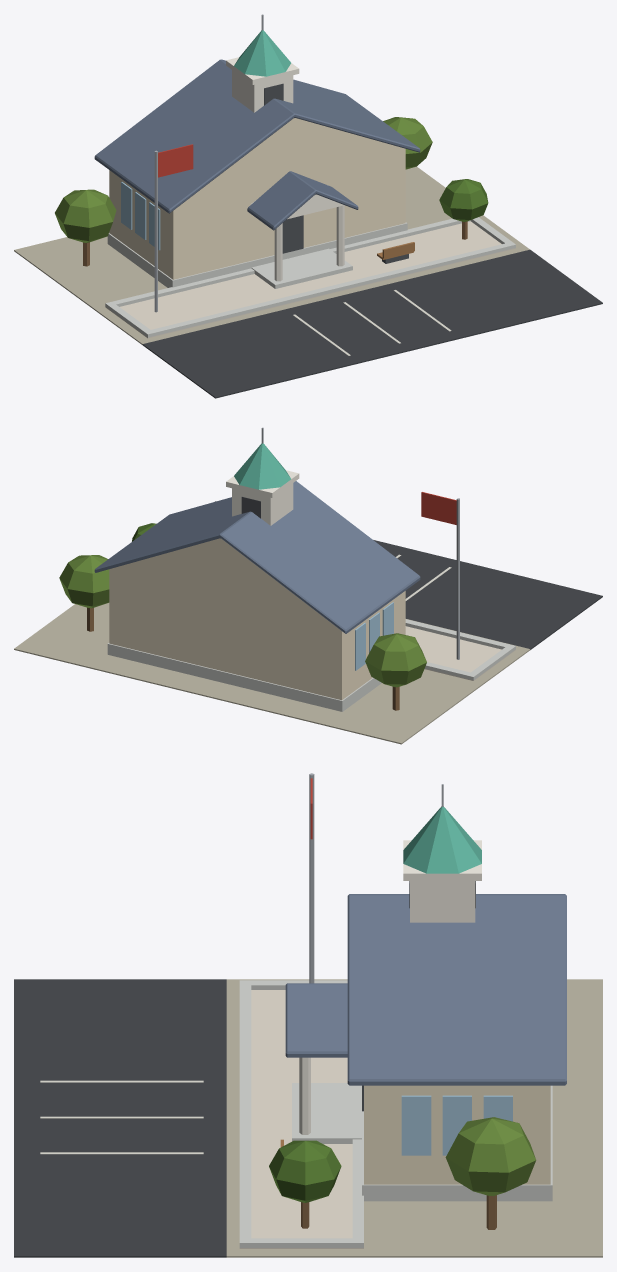
File: hamlethall.glb
3 renders of one model, top to bottom at view 1: azimuth 30°, elevation 25°; view 2: azimuth 150°, elevation 25°; view 3: azimuth 270°, elevation 25°, orthographic. The views are drawn at different scales.
Visible parts, largest first — view 1: hamlethall; view 2: hamlethall; view 3: hamlethall.
Part boxes in pixels (box(x1,y1,x2,y2)): hamlethall: box(14, 14, 602, 398); hamlethall: box(14, 427, 602, 744); hamlethall: box(14, 773, 602, 1257).
Size of the model in its own units: 20 by 11.3 by 18.
